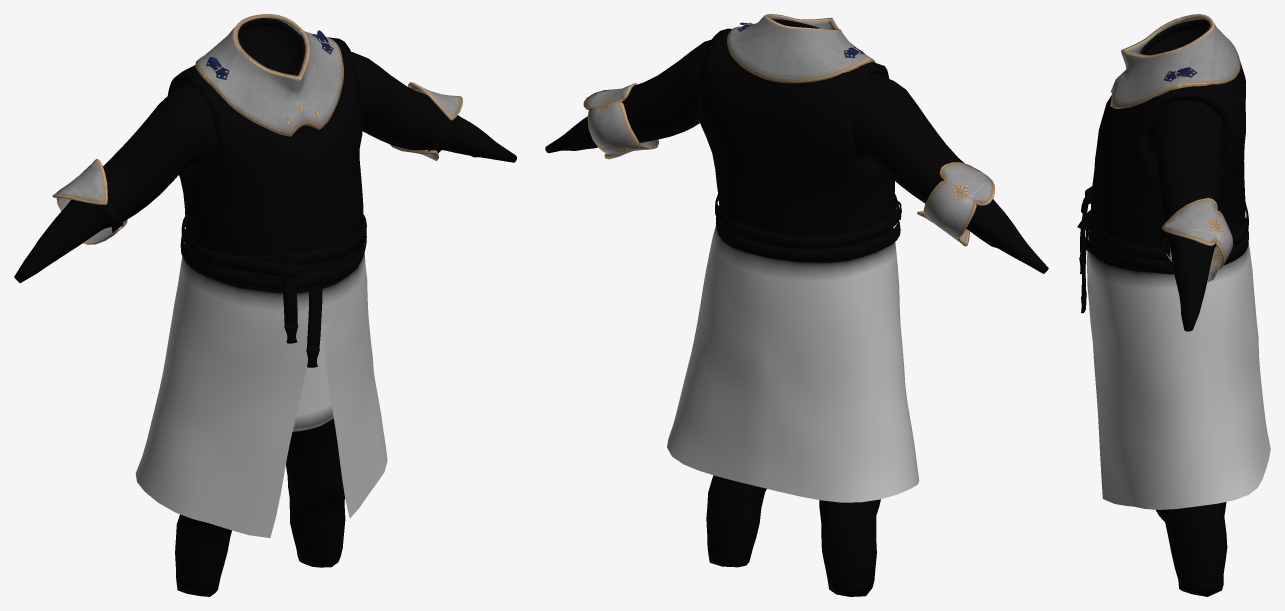
The model's file is swan_knight_armor_tabard1_t3_slim.fbx.
3 renders of one model, left to right at view 1: azimuth 30°, elevation 25°; view 2: azimuth 150°, elevation 25°; view 3: azimuth 270°, elevation 25°, orthographic. The views are drawn at different scales.
Visible parts, largest first — view 1: swan_knight_armor_tabard1_t3_slim.0, swan_knight_armor_tabard1_t3_slim.1; view 2: swan_knight_armor_tabard1_t3_slim.0, swan_knight_armor_tabard1_t3_slim.1; view 3: swan_knight_armor_tabard1_t3_slim.0, swan_knight_armor_tabard1_t3_slim.1.
Boxes of the visible parts, <box> form: swan_knight_armor_tabard1_t3_slim.0: <box>14,18,516,596</box>; swan_knight_armor_tabard1_t3_slim.1: <box>52,14,462,244</box>; swan_knight_armor_tabard1_t3_slim.0: <box>545,19,1048,596</box>; swan_knight_armor_tabard1_t3_slim.1: <box>583,14,994,246</box>; swan_knight_armor_tabard1_t3_slim.0: <box>1077,19,1270,596</box>; swan_knight_armor_tabard1_t3_slim.1: <box>1110,14,1240,282</box>.
Bounding box in the file's own units: 1.3 × 0.4478 × 1.37.
